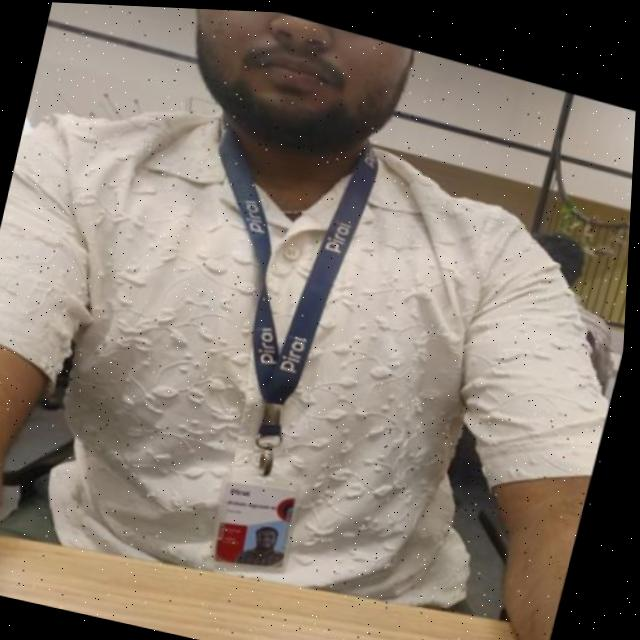id_card: (124, 114, 409, 586)
